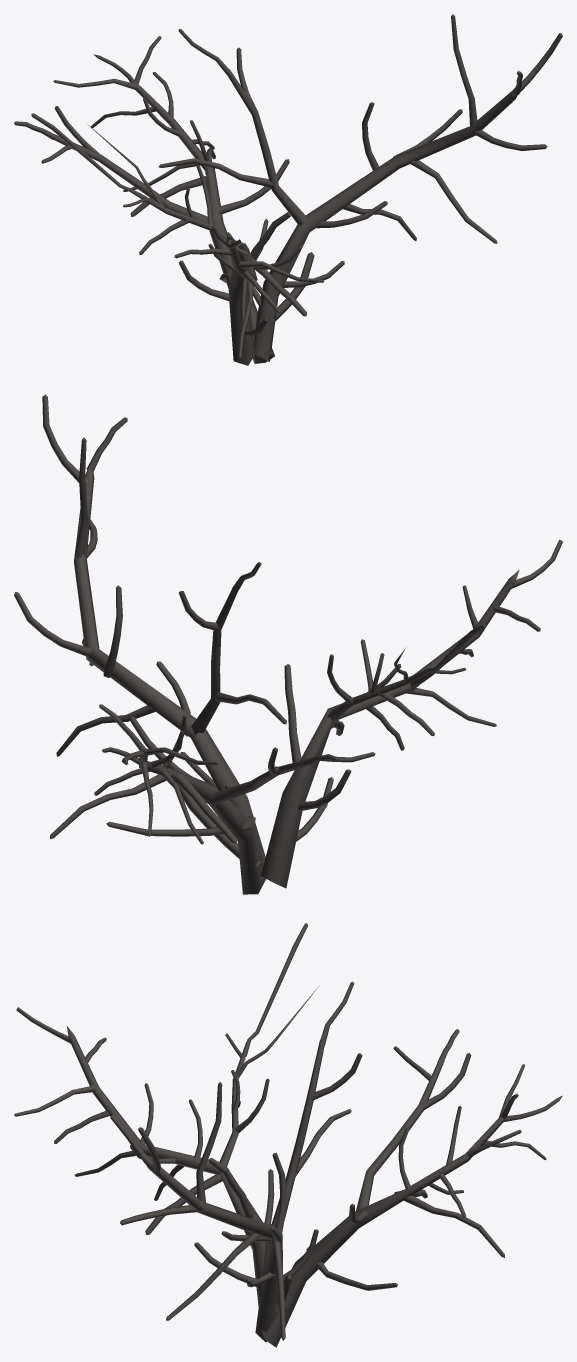
The model's file is P_bush_dead_02_LD.fbx.
The picture shows the model from 3 angles, top to bottom: view 1: azimuth 30°, elevation 25°; view 2: azimuth 150°, elevation 25°; view 3: azimuth 270°, elevation 25°; orthographic projection. The views are drawn at different scales.
Visible parts, largest first — view 1: P_bush_dead_02; view 2: P_bush_dead_02; view 3: P_bush_dead_02.
Boxes of the visible parts, box(x1,y1,x2,y2) form: P_bush_dead_02: box(14, 14, 562, 365); P_bush_dead_02: box(14, 394, 562, 894); P_bush_dead_02: box(14, 923, 562, 1347).
Size of the model in its own units: 144 by 99.99 by 142.
